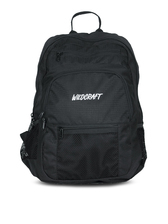bag: (21, 10, 148, 187)
